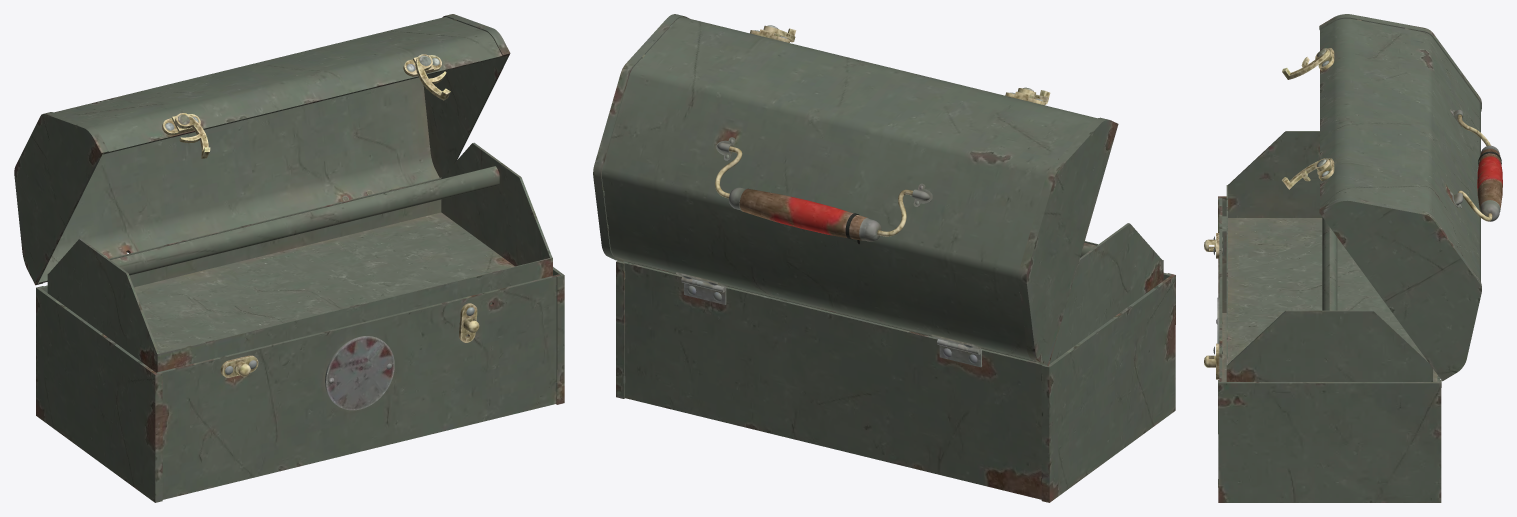
File: metal_toolbox.glb
The picture shows the model from 3 angles, left to right: view 1: azimuth 30°, elevation 25°; view 2: azimuth 150°, elevation 25°; view 3: azimuth 270°, elevation 25°; orthographic projection. The views are drawn at different scales.
Visible parts, largest first — view 1: metal_toolbox; view 2: metal_toolbox; view 3: metal_toolbox.
Boxes of the visible parts, x1,y1,x2,y2 form: metal_toolbox: [14, 14, 564, 502]; metal_toolbox: [593, 14, 1175, 502]; metal_toolbox: [1204, 14, 1502, 502].
Size of the model in its own units: 0.4 by 0.3047 by 0.2705.
1 material, 1 textured.
